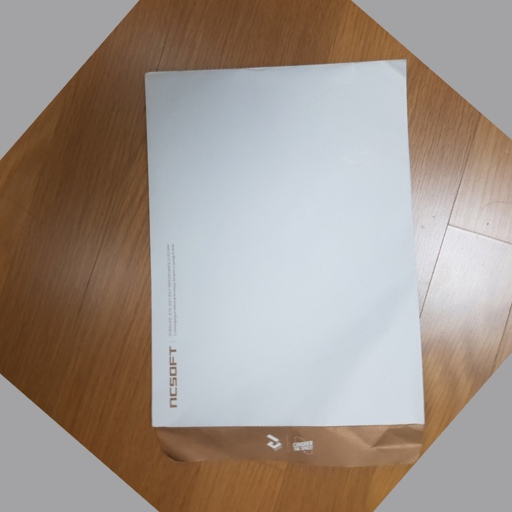Paper_2: (136, 56, 438, 480)
